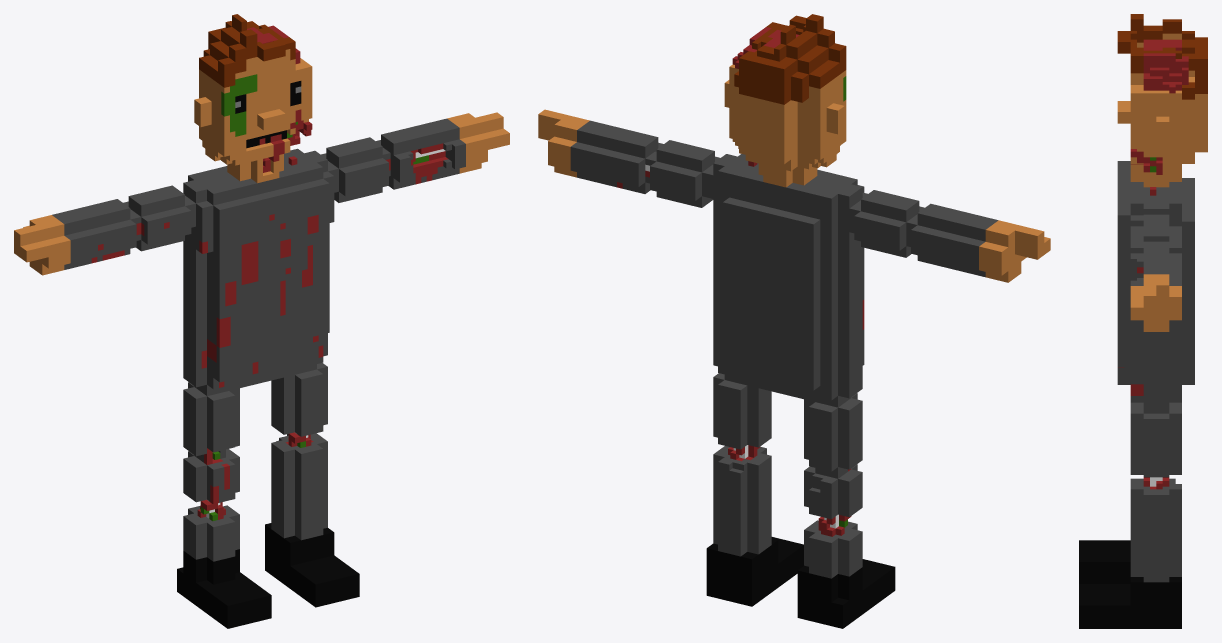
File: charecter-0.obj
3 views of the same model, side by side, from view 1: azimuth 30°, elevation 25°; view 2: azimuth 150°, elevation 25°; view 3: azimuth 270°, elevation 25° (orthographic). The views are drawn at different scales.
Size of the model in its own units: 8.8 by 9.8 by 2.
1 material, 1 textured.
